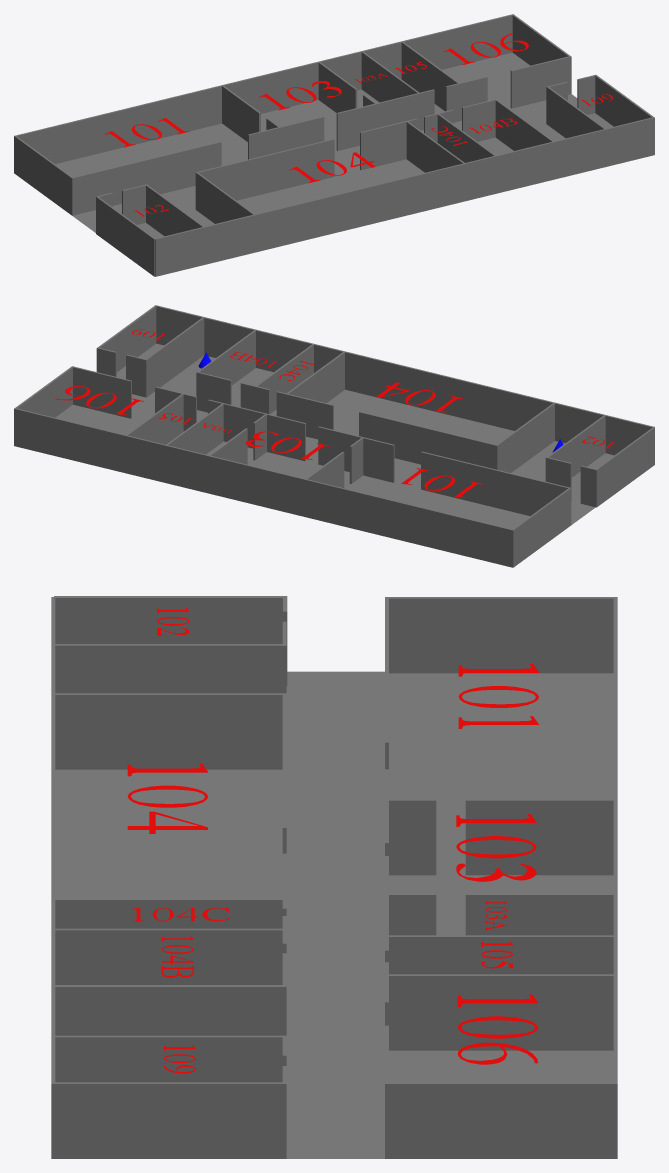
The model's file is mitch1.obj.
3 views of the same model, one above another, from view 1: azimuth 30°, elevation 25°; view 2: azimuth 150°, elevation 25°; view 3: azimuth 270°, elevation 25° (orthographic). The views are drawn at different scales.
Parts seen in each view (by area): view 1: mitch0:pCube3, mitch0:pCube4, mitch0:wood0:pPlane1, pCube34, pCube58, pCube66, pCube1, mitch0:pCube1, pCube50, pCube65, pCube19, pCube62 (+16 smaller); view 2: mitch0:pCube4, mitch0:wood0:pPlane1, mitch0:pCube3, pCube34, pCube58, pCube66, pCube65, mitch0:pCube1, pCube1, pCube6, pCube2, pCube50 (+20 smaller); view 3: mitch0:wood0:pPlane1, pCube7, pCube48, pCube2, pCube1, pCube62, pCube60, pCube5, mitch0:pCube2, pCube6, mitch0:pCube1, pCube51 (+8 smaller).
Boxes of the visible parts, bbox=[...] form: mitch0:pCube3: bbox=[155, 117, 654, 276]; mitch0:pCube4: bbox=[14, 14, 513, 173]; mitch0:wood0:pPlane1: bbox=[55, 52, 613, 238]; pCube34: bbox=[73, 141, 221, 215]; pCube58: bbox=[195, 138, 334, 210]; pCube66: bbox=[336, 89, 434, 150]; pCube1: bbox=[15, 136, 73, 215]; mitch0:pCube1: bbox=[97, 197, 154, 276]; pCube50: bbox=[510, 56, 571, 108]; pCube65: bbox=[248, 116, 324, 159]; pCube19: bbox=[360, 118, 417, 170]; pCube62: bbox=[401, 42, 460, 121]; mitch0:pCube4: bbox=[14, 408, 514, 567]; mitch0:wood0:pPlane1: bbox=[55, 343, 613, 529]; mitch0:pCube3: bbox=[155, 305, 654, 455]; pCube34: bbox=[421, 451, 569, 516]; pCube58: bbox=[359, 411, 497, 469]; pCube66: bbox=[208, 399, 305, 461]; pCube65: bbox=[318, 426, 394, 482]; mitch0:pCube1: bbox=[596, 427, 654, 506]; pCube1: bbox=[512, 487, 571, 566]; pCube6: bbox=[146, 317, 204, 396]; pCube2: bbox=[496, 403, 554, 472]; pCube50: bbox=[72, 366, 131, 418]; mitch0:wood0:pPlane1: bbox=[55, 671, 613, 1158]; pCube7: bbox=[55, 1082, 284, 1158]; pCube48: bbox=[386, 1082, 616, 1158]; pCube2: bbox=[54, 693, 282, 769]; pCube1: bbox=[385, 597, 613, 673]; pCube62: bbox=[385, 974, 613, 1050]; pCube60: bbox=[55, 928, 282, 984]; pCube5: bbox=[54, 985, 282, 1035]; mitch0:pCube2: bbox=[54, 644, 282, 693]; pCube6: bbox=[55, 1035, 282, 1082]; mitch0:pCube1: bbox=[54, 596, 282, 643]; pCube51: bbox=[465, 799, 613, 875].
Bounding box in the file's own units: 2802 × 201 × 1374.
